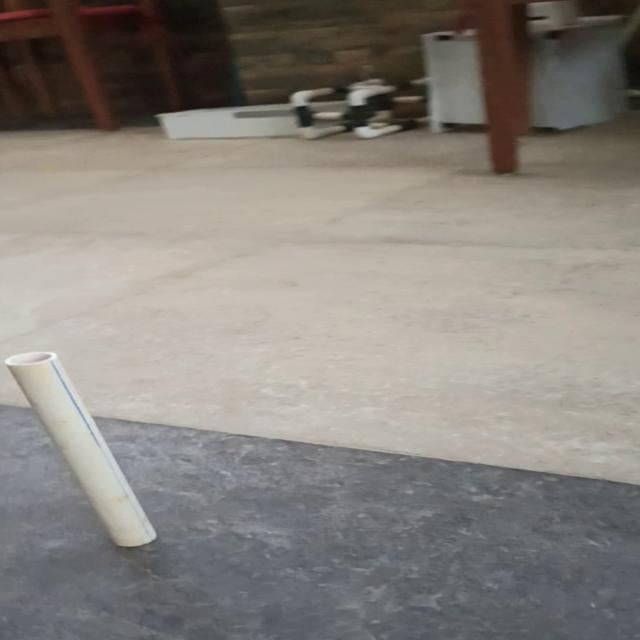Cube: (4, 350, 158, 548)
